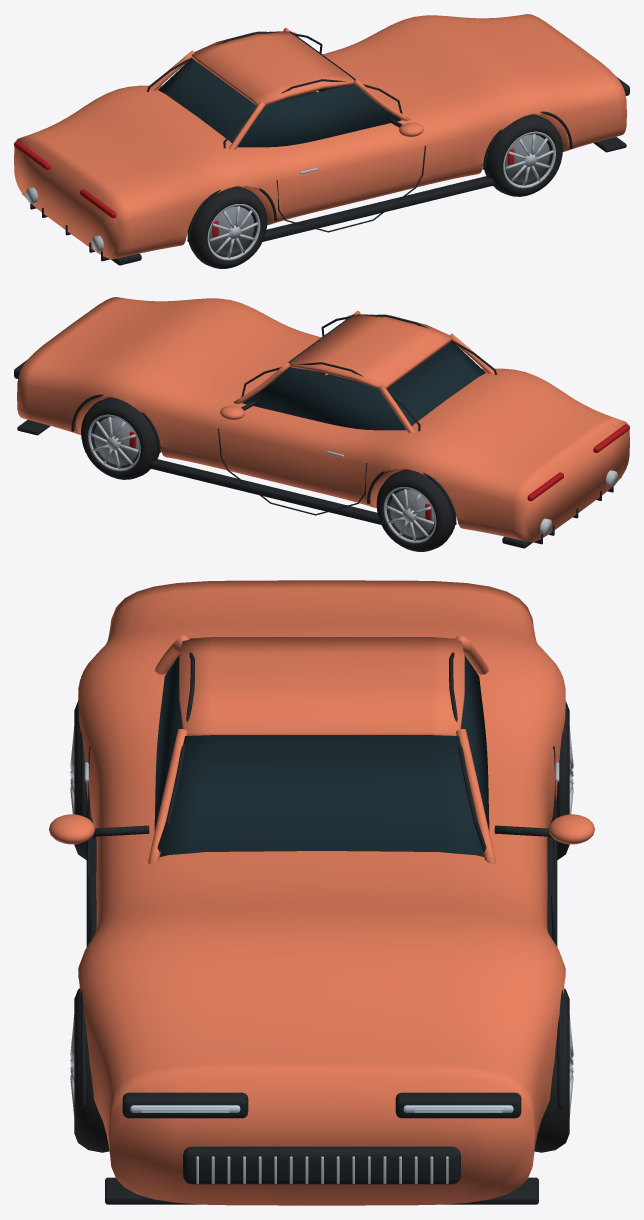
Rendered from asset.glb.
3 renders of one model, top to bottom at view 1: azimuth 30°, elevation 25°; view 2: azimuth 150°, elevation 25°; view 3: azimuth 270°, elevation 25°, orthographic. The views are drawn at different scales.
Parts seen in each view (by area): view 1: chassis, roof, side_glass_left, rear_glass, tyre_rear_left, tyre_front_left, sill_left, brake_rear_left, brake_front_left, rim_rear_left, rim_front_left, window_seal_left (+4 smaller); view 2: chassis, roof, side_glass_right, rear_glass, tyre_rear_right, tyre_front_right, sill_right, brake_rear_right, brake_front_right, rim_rear_right, rim_front_right, window_seal_right (+4 smaller); view 3: chassis, windshield, roof, front_grille, headlamp_surround_left, headlamp_surround_right, tyre_front_left, tyre_front_right, side_glass_left, side_glass_right, front_splitter, a_pillar_left (+9 smaller).
Boxes of the visible parts, bbox=[...] form: chassis: bbox=[14, 14, 626, 259]; roof: bbox=[191, 31, 354, 105]; side_glass_left: bbox=[237, 84, 401, 147]; rear_glass: bbox=[159, 58, 256, 142]; tyre_rear_left: bbox=[187, 186, 267, 268]; tyre_front_left: bbox=[484, 114, 562, 196]; sill_left: bbox=[262, 176, 494, 241]; brake_rear_left: bbox=[209, 206, 254, 254]; brake_front_left: bbox=[505, 134, 549, 182]; rim_rear_left: bbox=[207, 204, 260, 260]; rim_front_left: bbox=[503, 131, 555, 188]; window_seal_left: bbox=[223, 79, 402, 148]; chassis: bbox=[17, 297, 629, 542]; roof: bbox=[289, 314, 452, 388]; side_glass_right: bbox=[242, 367, 406, 430]; rear_glass: bbox=[387, 341, 484, 425]; tyre_rear_right: bbox=[376, 469, 456, 551]; tyre_front_right: bbox=[81, 397, 159, 479]; sill_right: bbox=[149, 459, 381, 524]; brake_rear_right: bbox=[389, 489, 434, 537]; brake_front_right: bbox=[94, 417, 138, 465]; rim_rear_right: bbox=[383, 487, 436, 543]; rim_front_right: bbox=[88, 414, 140, 471]; window_seal_right: bbox=[241, 362, 420, 431]; chassis: bbox=[78, 580, 565, 1205]; windshield: bbox=[160, 735, 483, 856]; roof: bbox=[179, 637, 464, 735]; front_grille: bbox=[183, 1146, 460, 1184]; headlamp_surround_left: bbox=[122, 1092, 248, 1118]; headlamp_surround_right: bbox=[395, 1092, 521, 1118]; tyre_front_left: bbox=[74, 988, 109, 1152]; tyre_front_right: bbox=[534, 988, 569, 1152]; side_glass_left: bbox=[154, 655, 182, 830]; side_glass_right: bbox=[461, 655, 489, 830]; front_splitter: bbox=[105, 1177, 538, 1204]; a_pillar_left: bbox=[148, 729, 187, 864].
Bounding box in the file's own units: 4.92 × 1.29 × 2.24.
